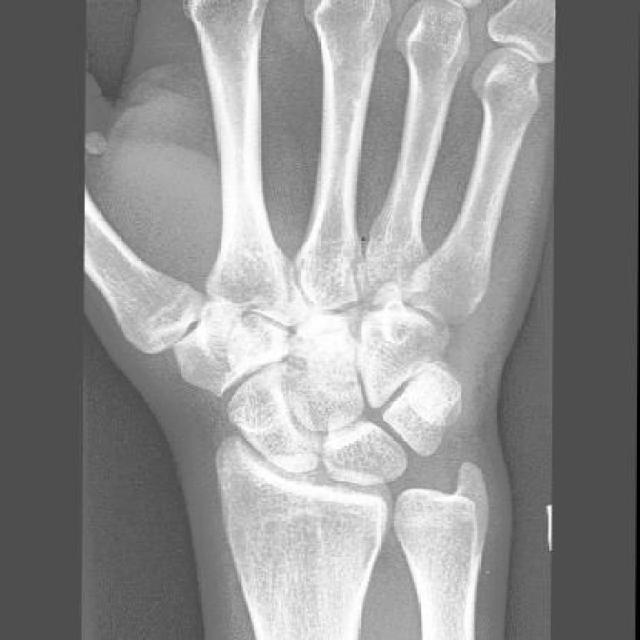Fracture: (294, 311, 348, 354)
